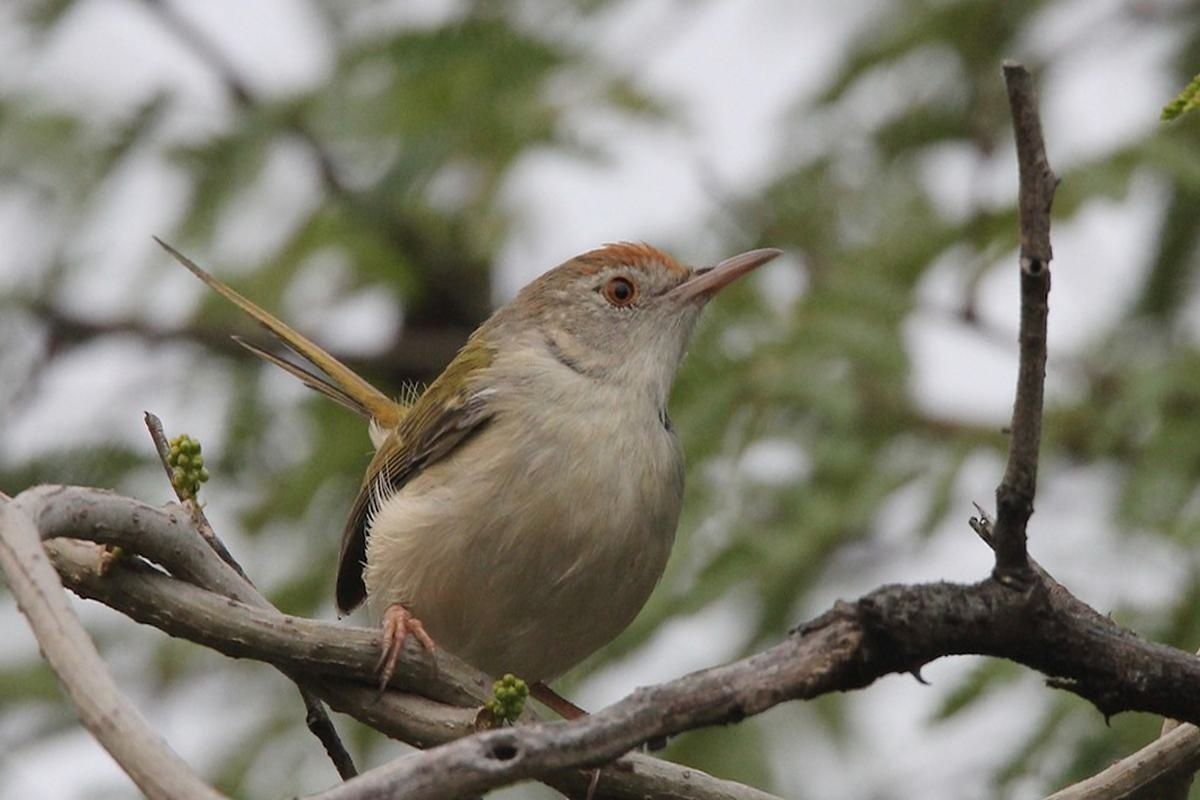tailorbird: (167, 182, 836, 720)
